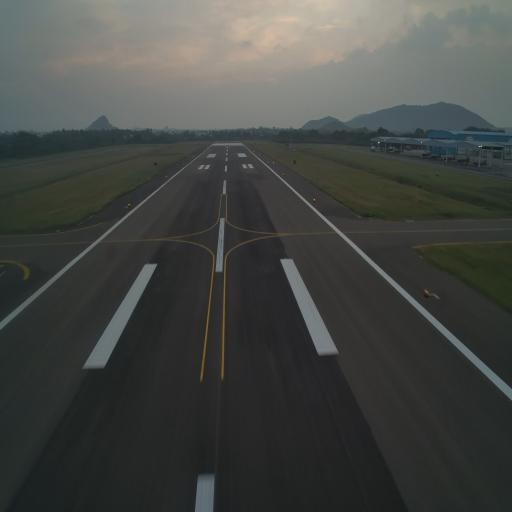on: (422, 286, 430, 298), (127, 201, 131, 209), (313, 197, 316, 203)
